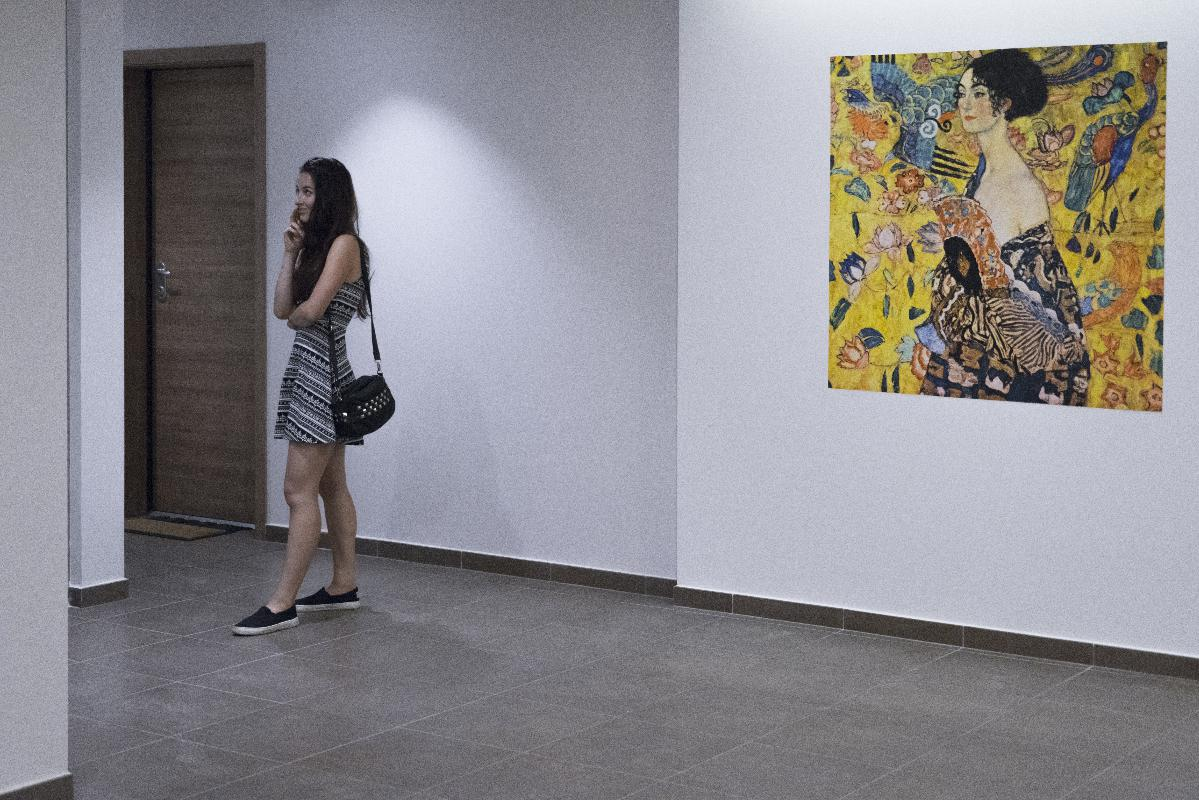Person: (233, 155, 390, 637)
